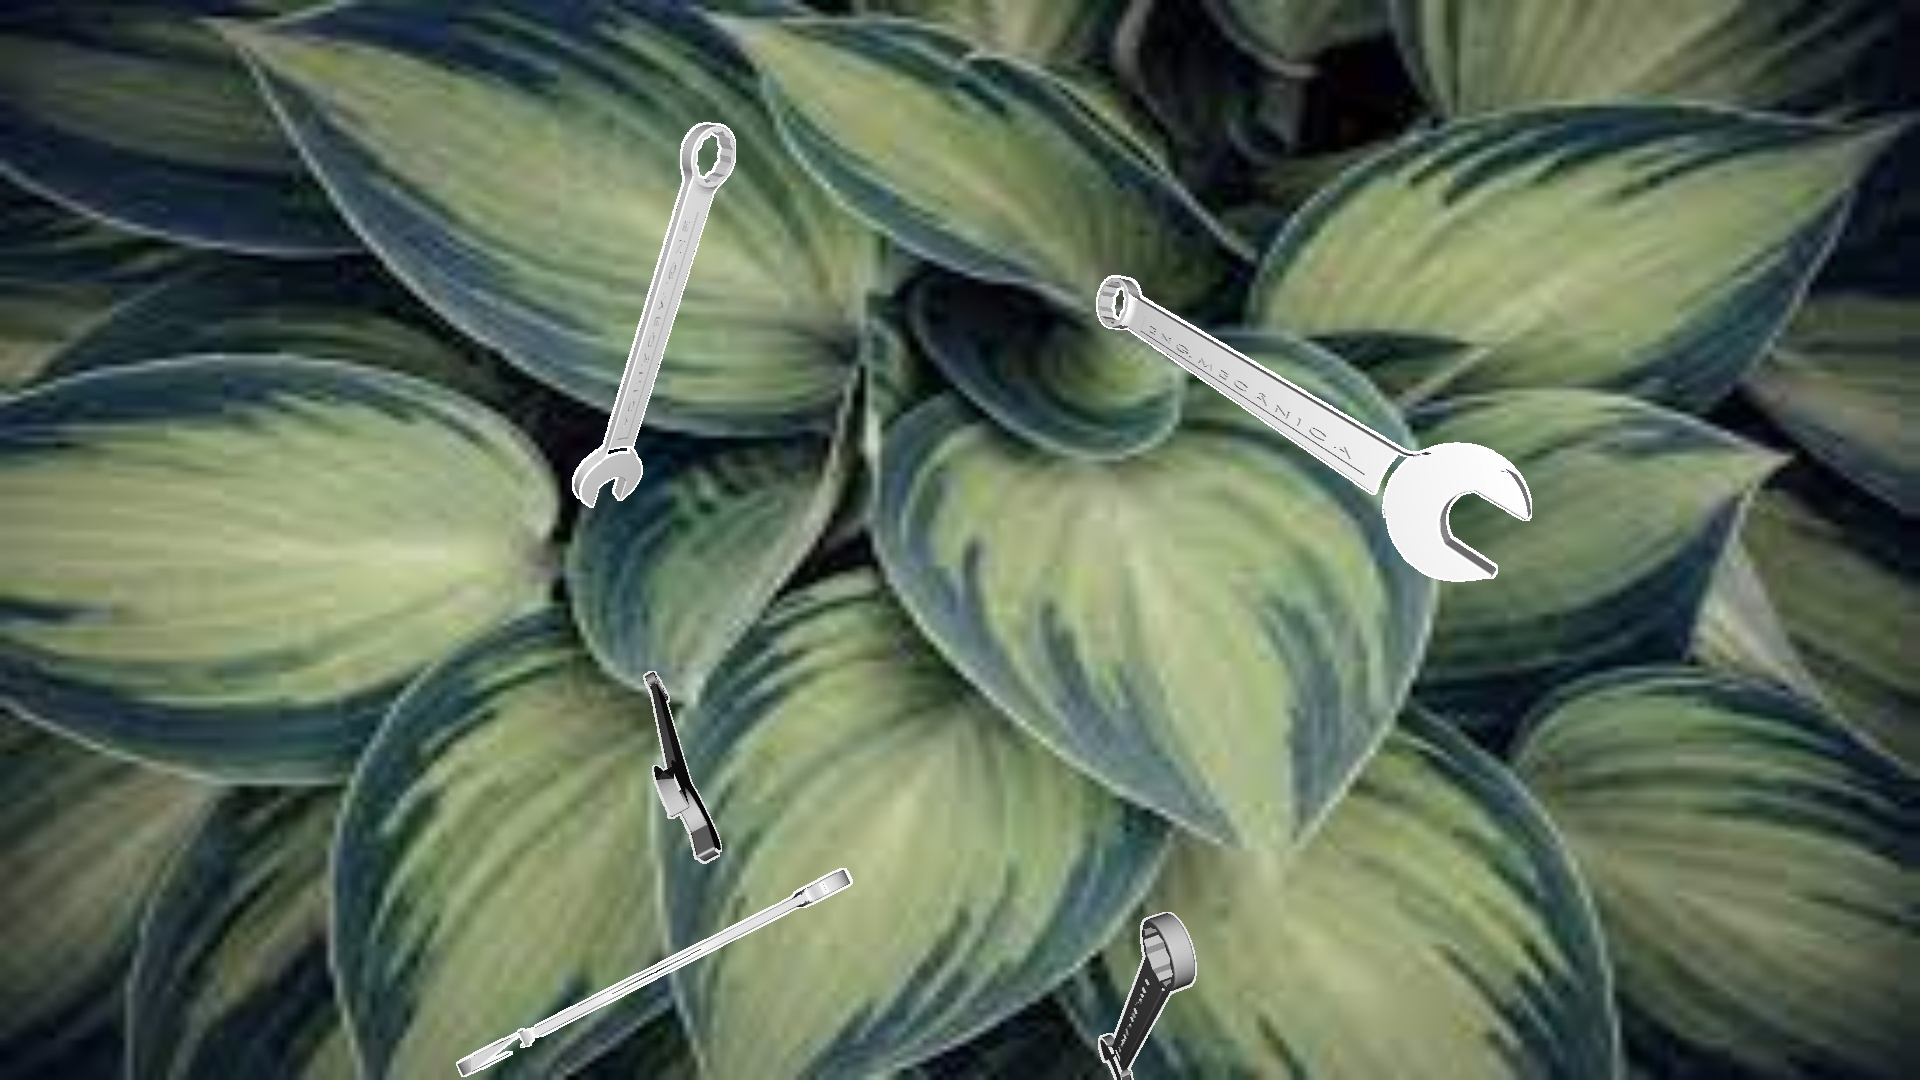Mixed Key: (1096, 276, 1531, 582), (456, 868, 852, 1076), (572, 123, 735, 506), (1098, 913, 1196, 1079), (644, 671, 721, 862)
